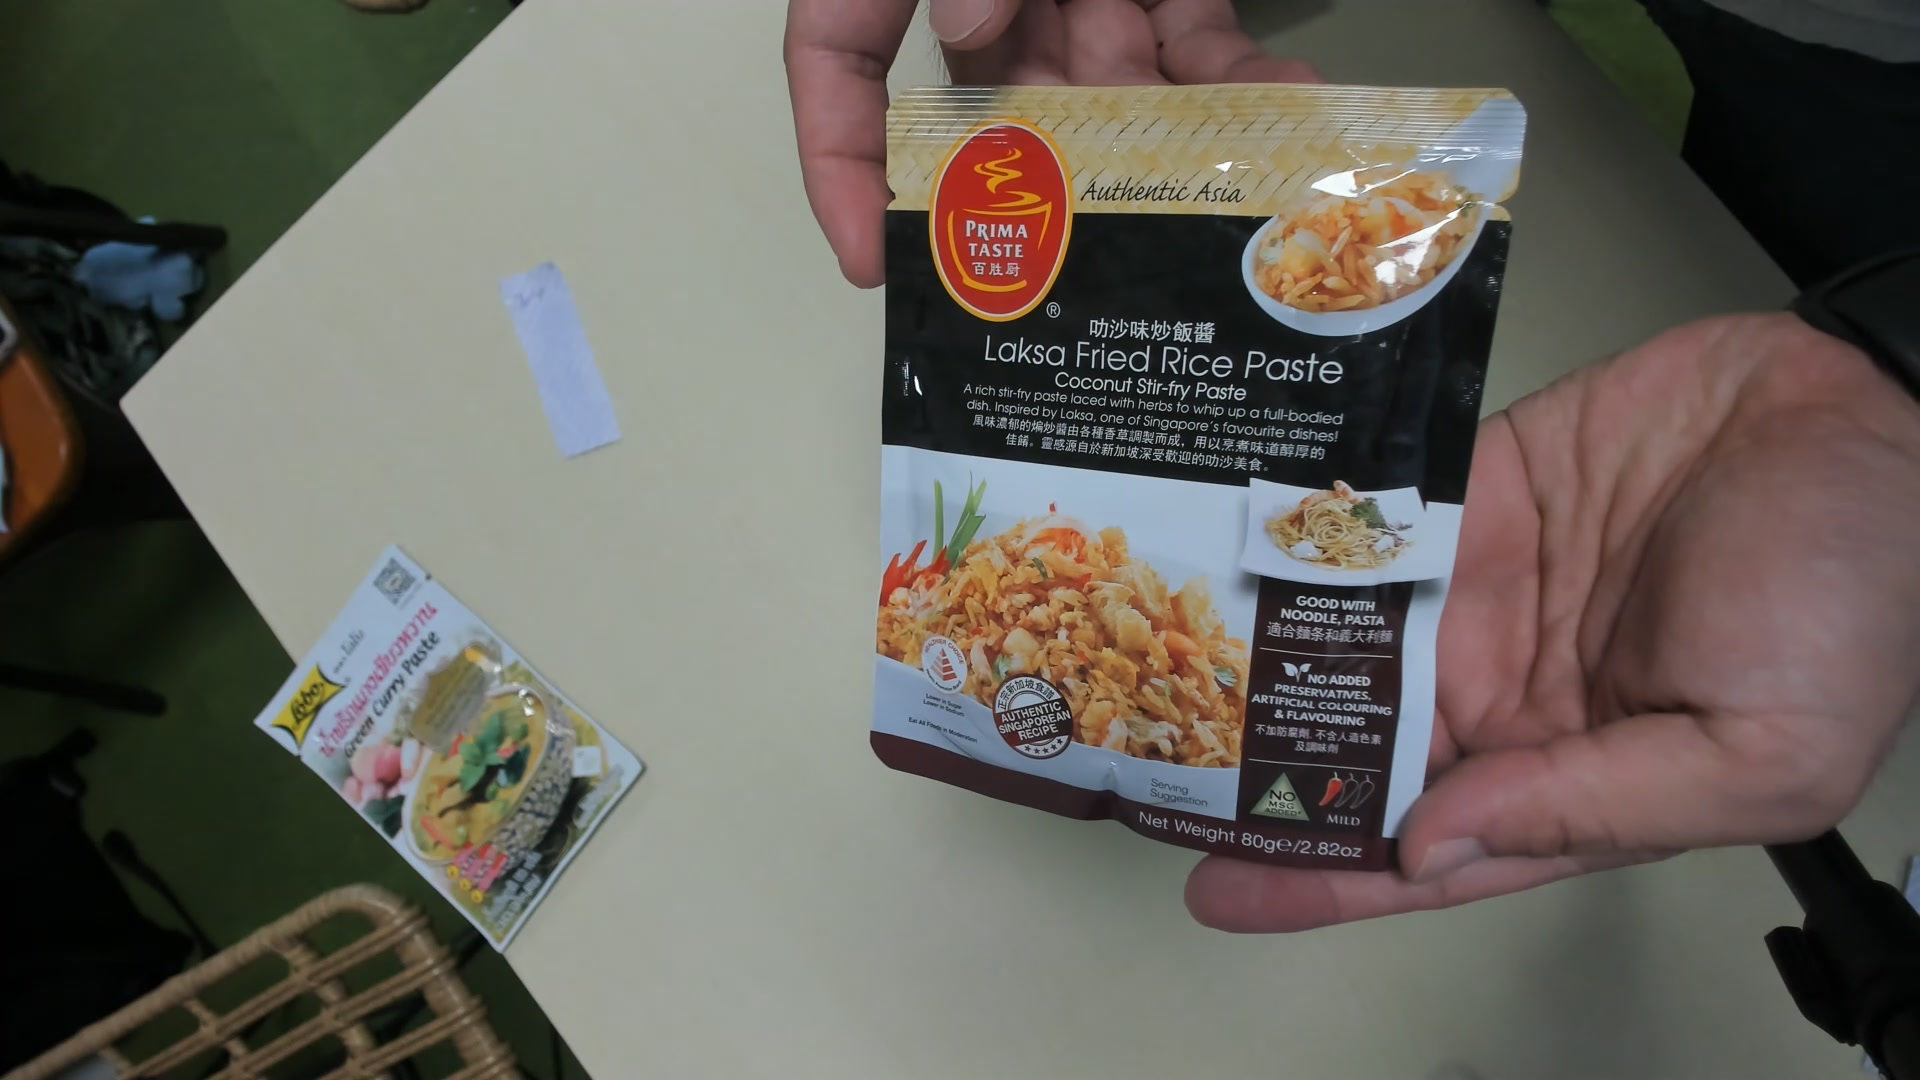OtherSauceDressing_0-99g_Halal_NonHealthy: (862, 83, 1515, 869)
